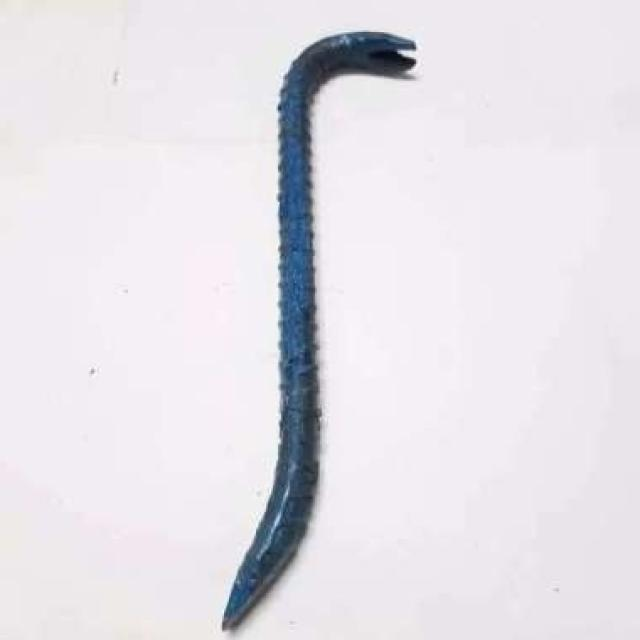Linggis: (218, 29, 418, 634)
